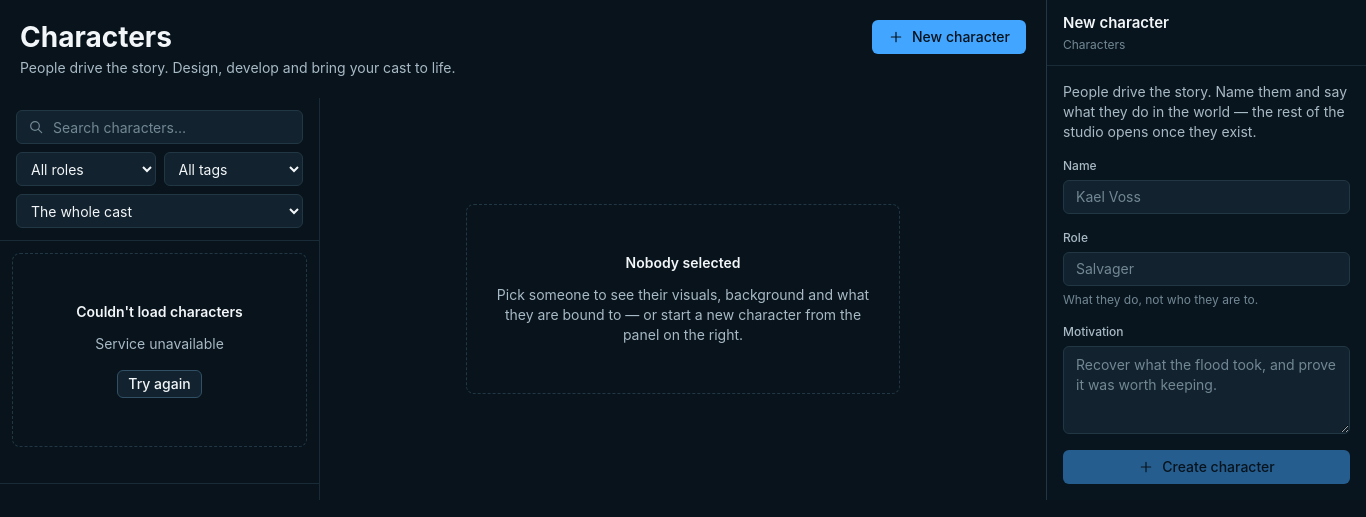
Test: Characters workspace › says what went wrong and offers a retry when the listing fails
This screenshot has width=1366, height=517.
Expected: the text "Couldn't load characters" is shown, [76,302,243,322]
Expected: the text "Service unavailable" is shown, [95,334,224,354]
Click the button "Try again".
click(159, 384)  # box [117,370,202,398]
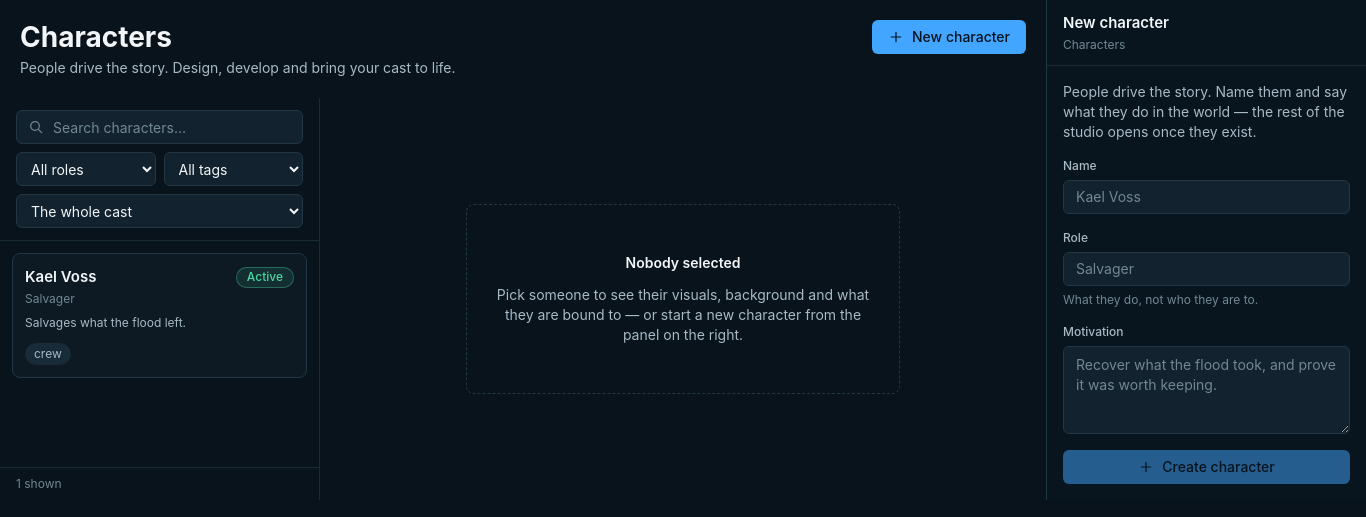
Now the heading "Kael Voss" is shown, box [25,266,96,288]
